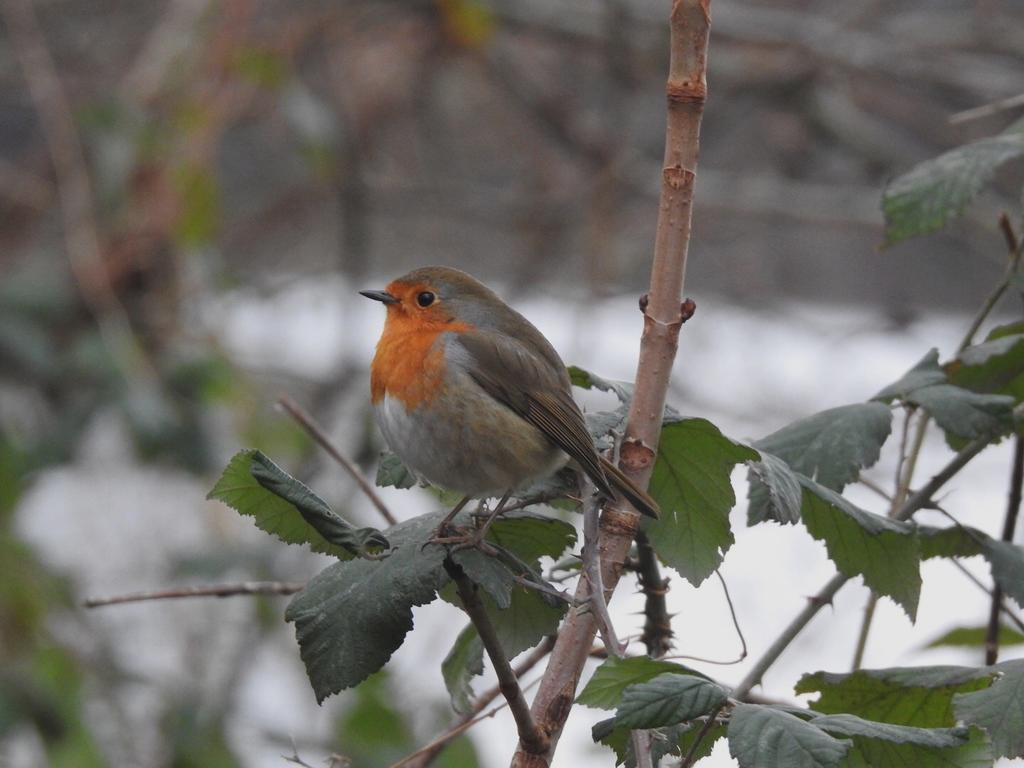ErithacusRubecula: (357, 264, 659, 561)
